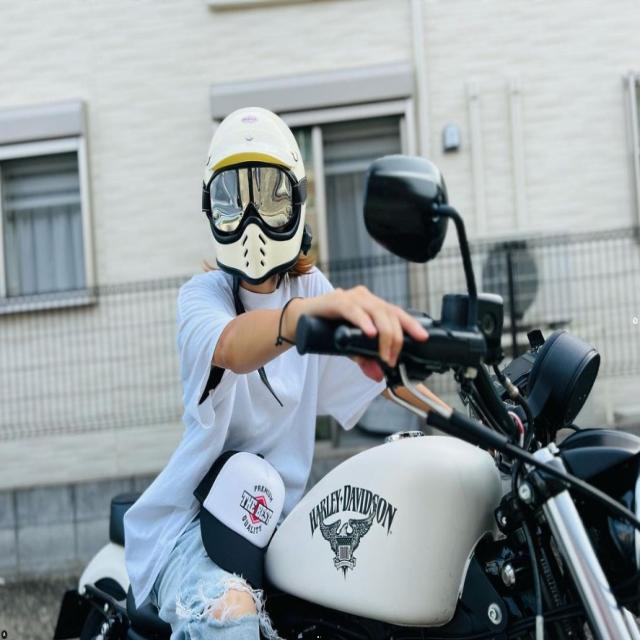helmet: (196, 101, 310, 290)
